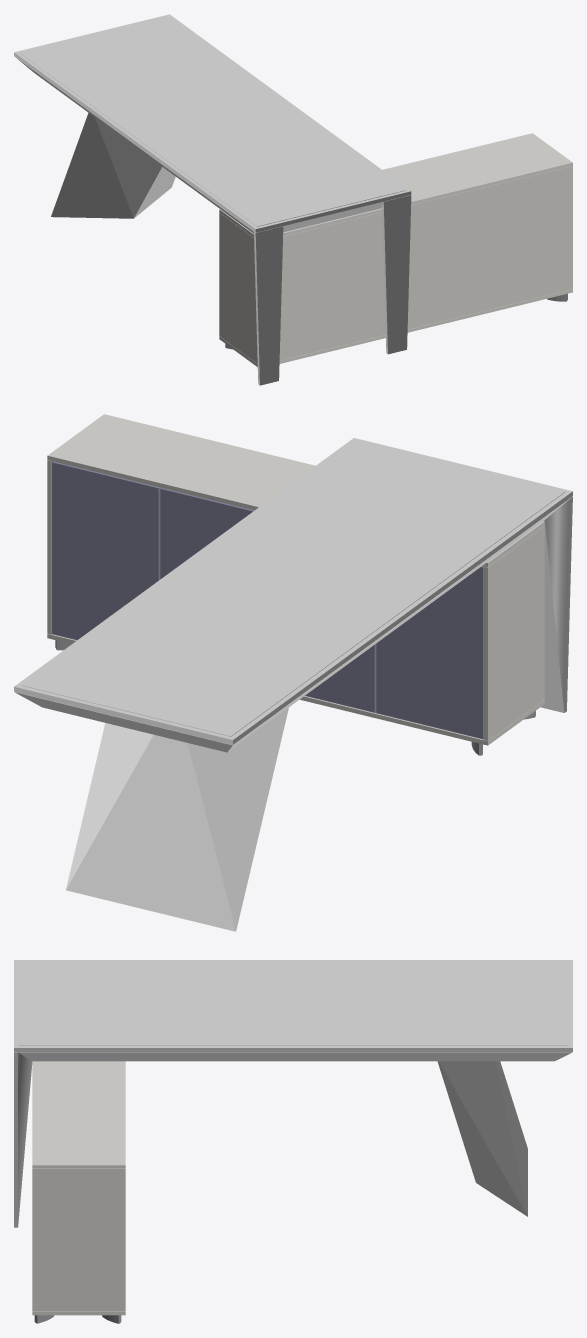
The model's file is Coffee_Table.fbx.
3 renders of one model, top to bottom at view 1: azimuth 30°, elevation 25°; view 2: azimuth 150°, elevation 25°; view 3: azimuth 270°, elevation 25°, orthographic. The views are drawn at different scales.
Parts seen in each view (by area): view 1: Coffee_Table; view 2: Coffee_Table; view 3: Coffee_Table.
Part boxes in pixels (<box>): Coffee_Table: <box>14,14,572,385</box>; Coffee_Table: <box>14,414,572,931</box>; Coffee_Table: <box>14,960,572,1323</box>.
Bounding box in the file's own units: 259 × 120 × 333.
